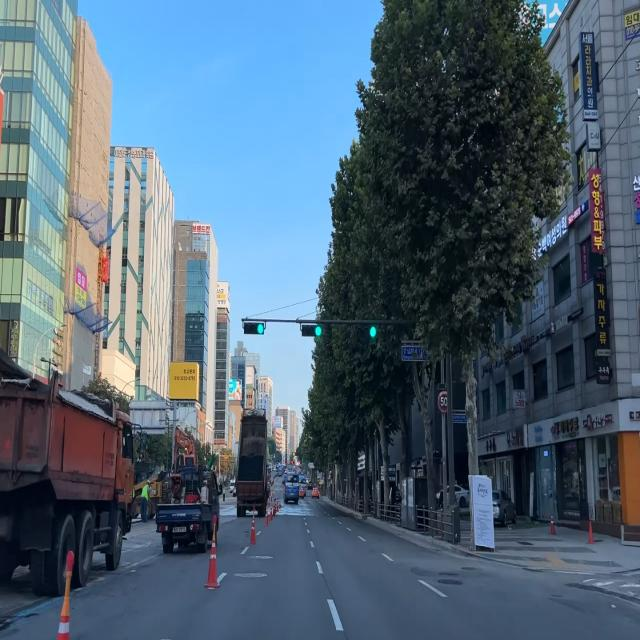Green Light: (314, 326, 322, 336), (257, 324, 264, 334), (370, 327, 376, 338)
